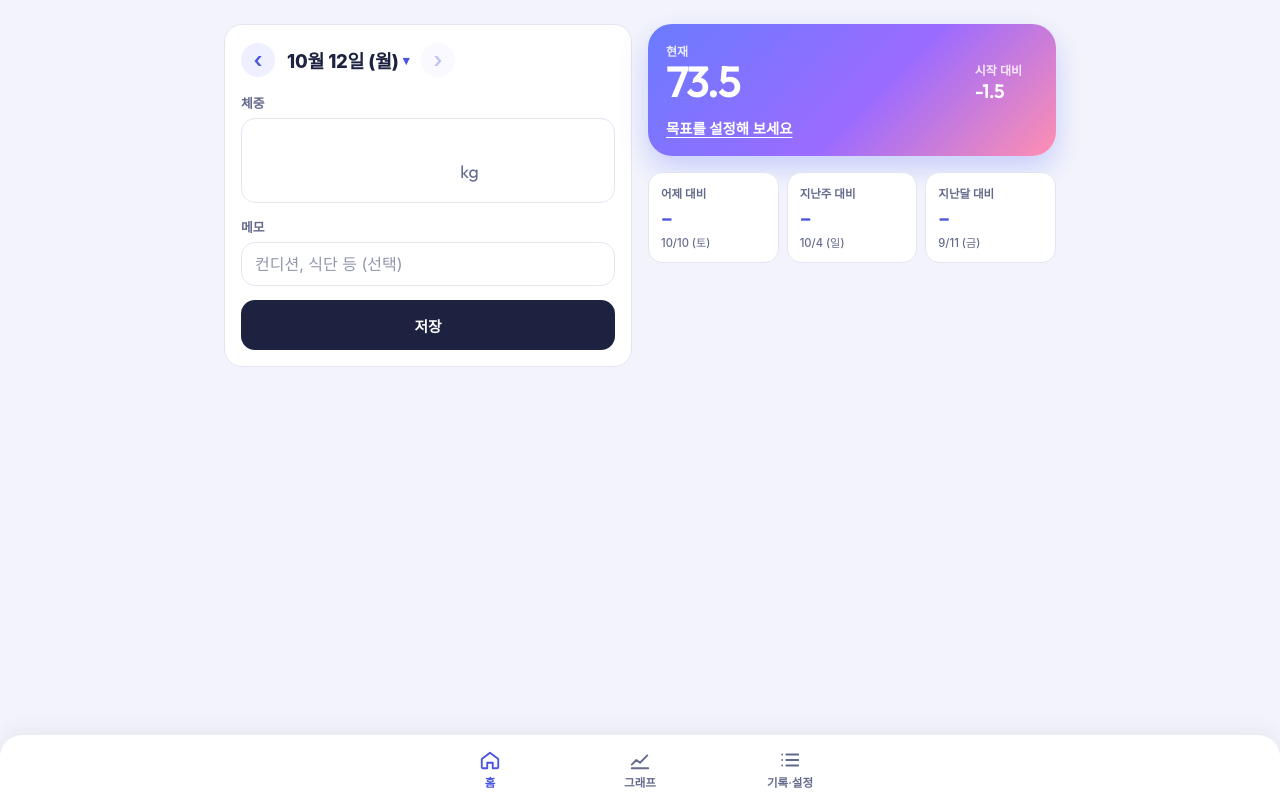
Scenario: home screen › shows the weight recorded on the selected date
The image size is (1280, 800).
Expected: the navigation bar is shown, [0,735,1279,799]
In the date field named "날짜": coordinates (348, 60) [279,41,417,79], type "2026-10-08"
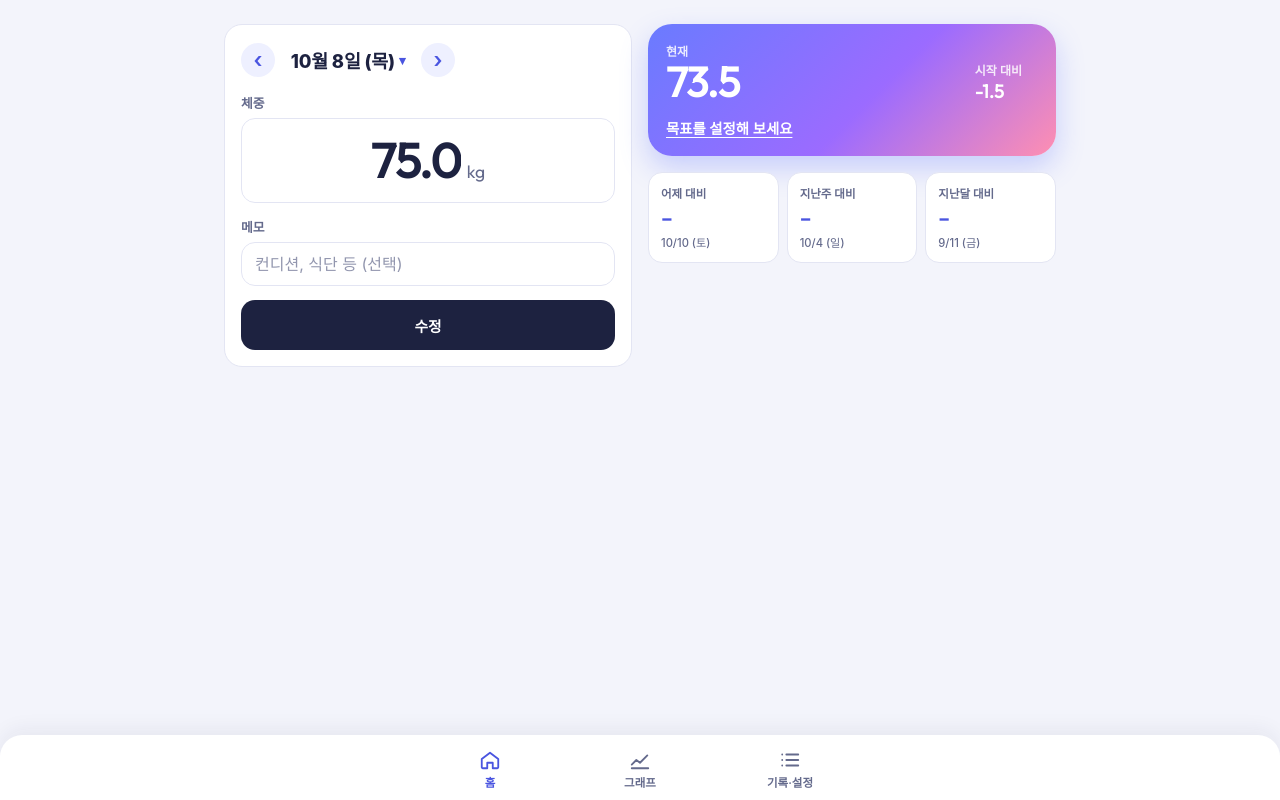
Expected: the field named "체중(kg)" holds "75.0", [371,133,461,188]
기록이 없는 날: 숫자를 전혀 보여 주지 않는다
In the date field named "날짜": coordinates (348, 60) [279,41,417,79], type "2026-10-09"
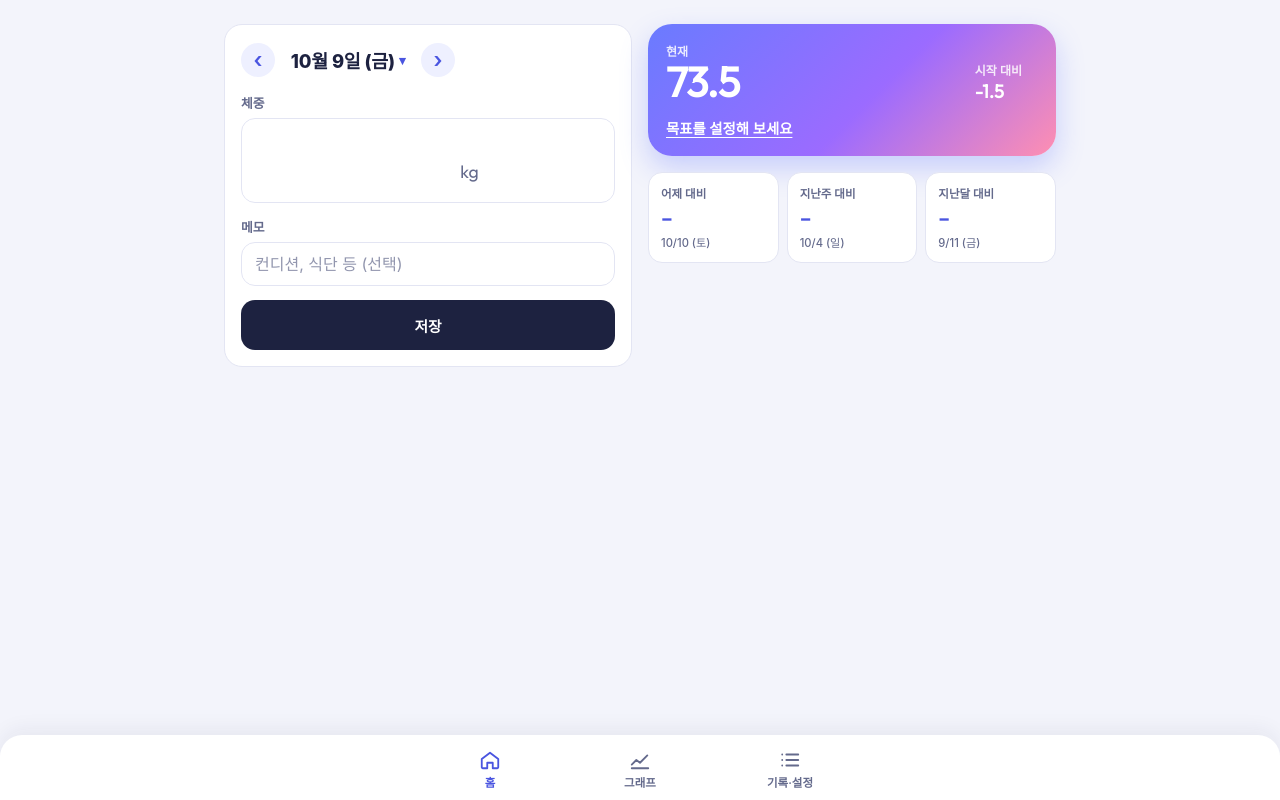
Expected: the field named "체중(kg)" is empty, [377,133,454,188]
첫 기록보다 이전 날도 마찬가지
In the date field named "날짜": coordinates (348, 60) [279,41,417,79], type "2026-10-05"
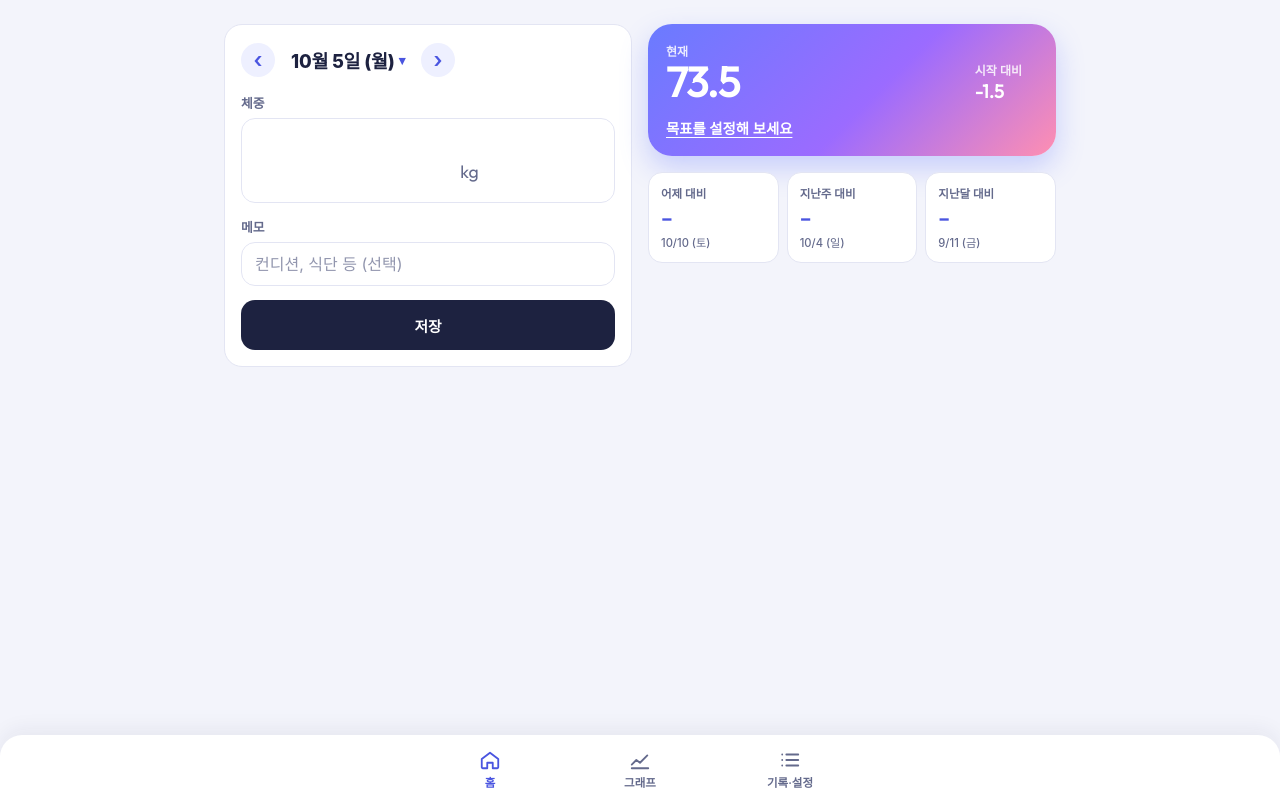
Expected: the field named "체중(kg)" is empty, [377,133,454,188]
In the date field named "날짜": coordinates (348, 60) [279,41,417,79], type "2026-10-11"
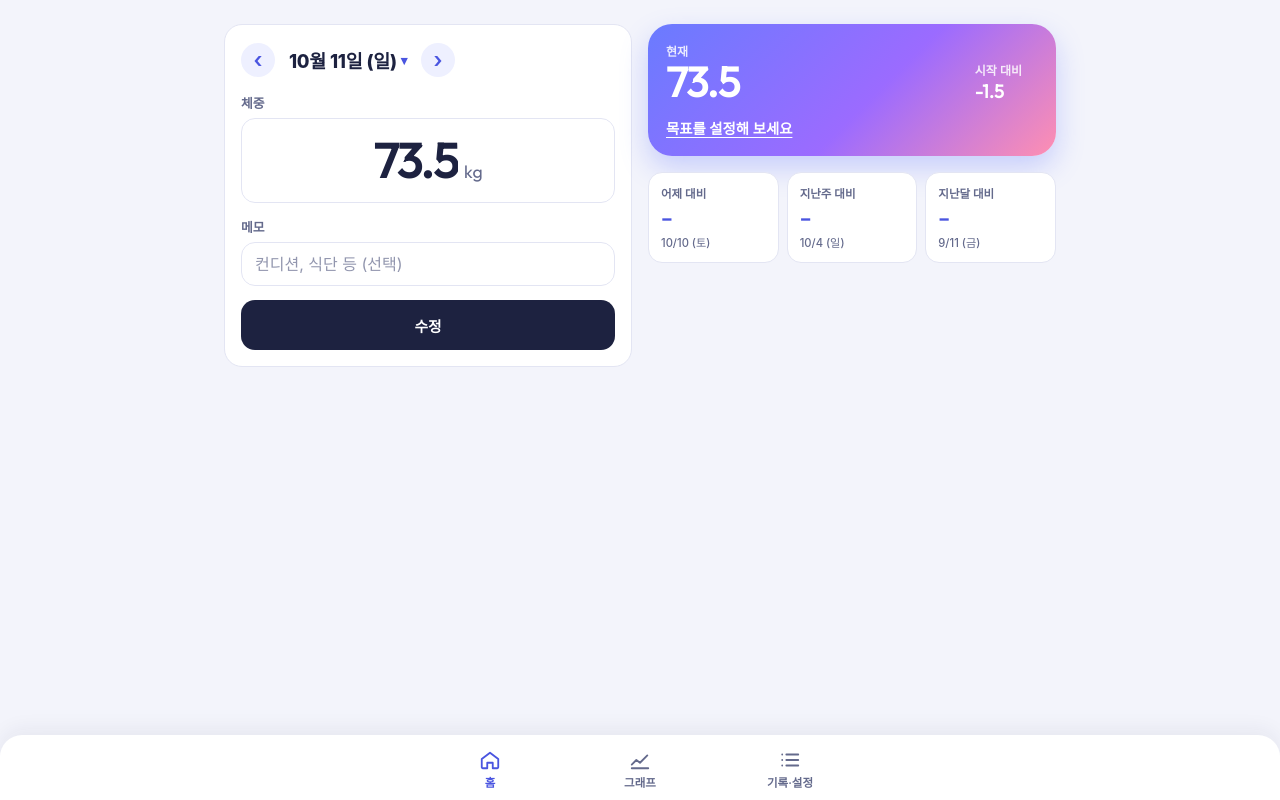
Expected: the field named "체중(kg)" holds "73.5", [373,133,458,188]
